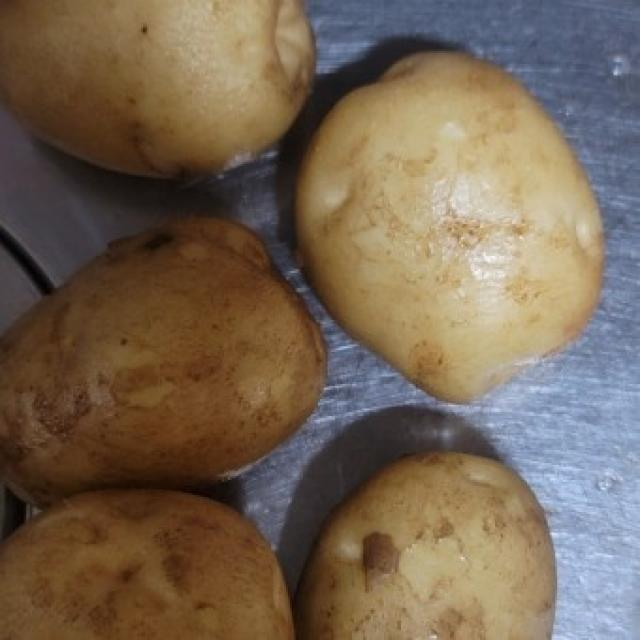potato: (291, 44, 609, 408), (0, 205, 329, 513), (0, 0, 320, 183), (298, 436, 562, 640), (0, 488, 301, 639)
